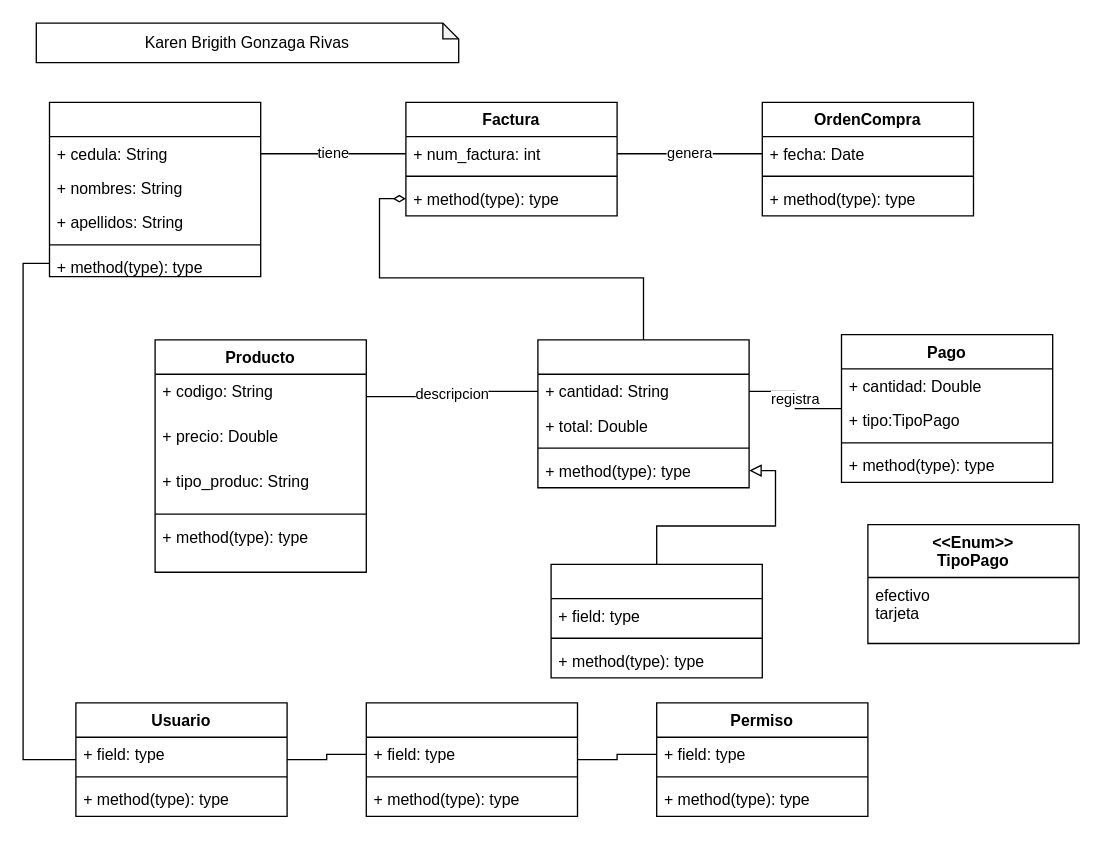
This 1102x843 diagram has some shape labels left out. The shapes that lost their labels are listed below. From the top down, each one's box as (x1, y1, x2, y2) in pixels, then its label:
(48, 101, 261, 277): Clente
(537, 339, 749, 488): itemProducto
(550, 563, 762, 678): FacturaCancelada
(365, 702, 578, 816): Rol
